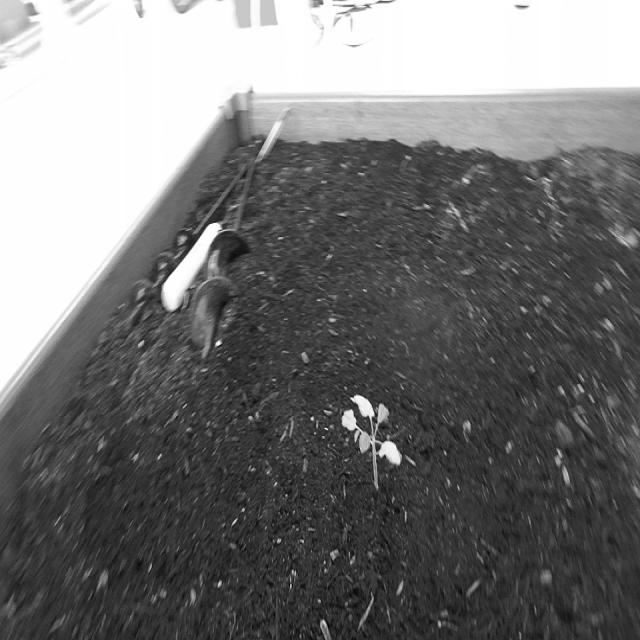Healthy: (338, 388, 406, 501)
